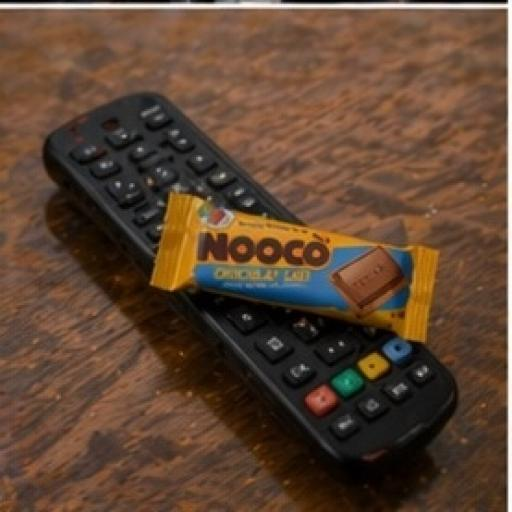biscuit-detection: (149, 173, 454, 363)
